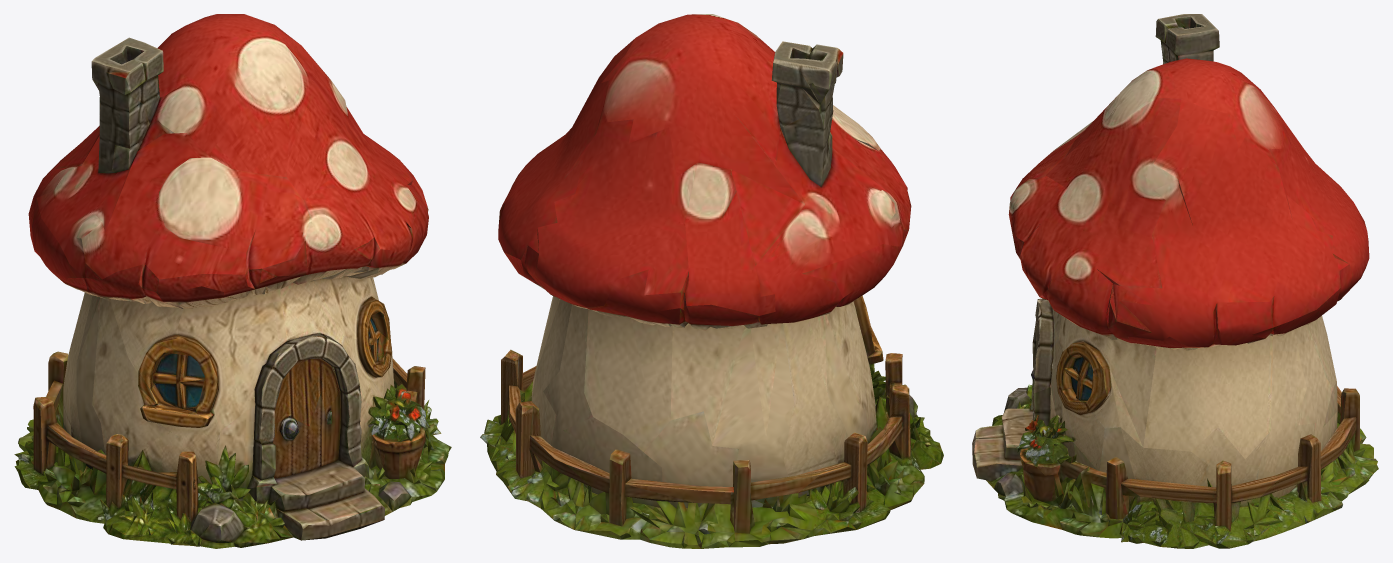
File: house_a.glb
The picture shows the model from 3 angles, left to right: view 1: azimuth 30°, elevation 25°; view 2: azimuth 150°, elevation 25°; view 3: azimuth 270°, elevation 25°; orthographic projection. The views are drawn at different scales.
Parts seen in each view (by area): view 1: mushroom_house_red_body; view 2: mushroom_house_red_body; view 3: mushroom_house_red_body.
Part boxes in pixels (x1,y1,x2,y2): mushroom_house_red_body: [14, 14, 451, 548]; mushroom_house_red_body: [480, 14, 943, 548]; mushroom_house_red_body: [972, 14, 1378, 548].
Bounding box in the file's own units: 5.7 × 6 × 5.55.
Materials: 1 (1 with a texture image).
